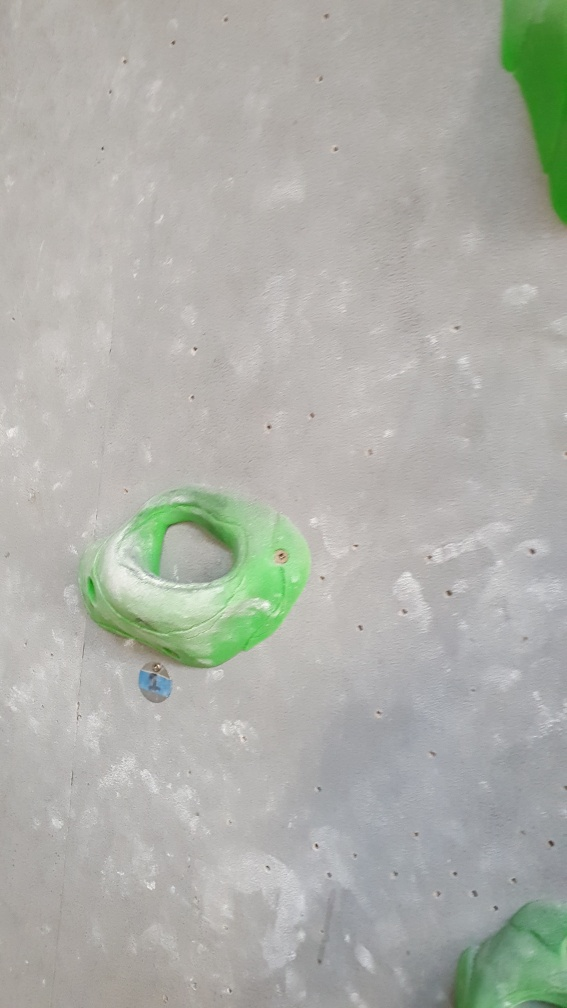Hand Start: (137, 659, 176, 708)
Pocket: (77, 481, 315, 671)
